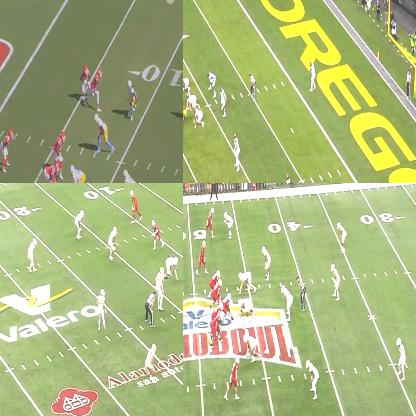CENTER: (222, 294, 233, 316)
DB: (145, 341, 159, 378), (95, 287, 108, 326), (396, 336, 406, 381), (331, 264, 342, 297), (337, 220, 348, 252), (26, 239, 36, 272), (224, 210, 234, 240), (74, 210, 84, 239), (128, 80, 136, 112), (309, 62, 316, 92), (283, 173, 292, 182)
LB: (154, 265, 166, 310), (306, 361, 319, 399), (95, 116, 107, 156), (281, 285, 293, 319), (261, 246, 271, 278), (107, 227, 118, 256), (206, 69, 216, 96), (218, 86, 227, 115), (233, 133, 239, 170), (123, 168, 135, 182)
SKILL: (230, 356, 241, 401), (88, 66, 100, 104), (2, 129, 12, 174), (151, 217, 164, 250), (130, 189, 142, 221), (81, 64, 91, 100), (198, 240, 208, 274), (206, 206, 216, 237)
